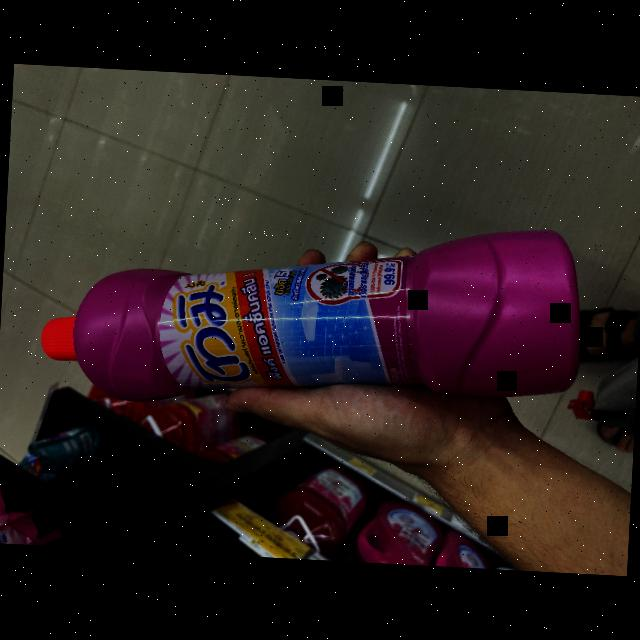chemical_plastic_bottle: (28, 180, 596, 427)
